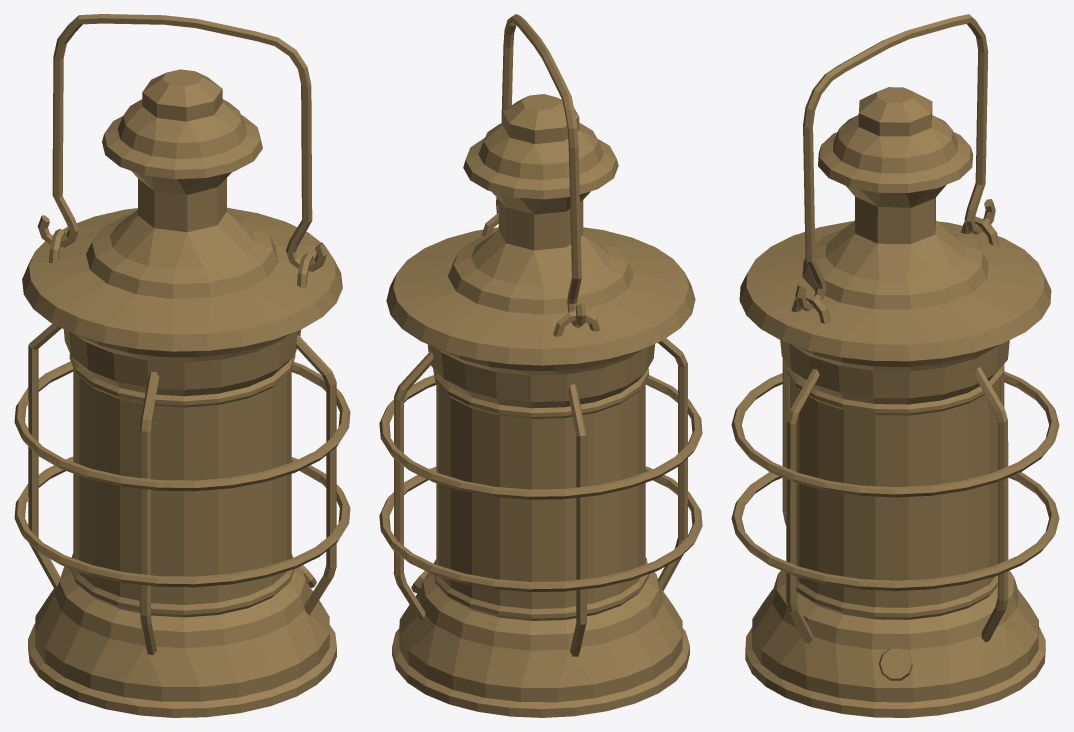
File: lantern.fbx
3 renders of one model, left to right at view 1: azimuth 30°, elevation 25°; view 2: azimuth 150°, elevation 25°; view 3: azimuth 270°, elevation 25°, orthographic. The views are drawn at different scales.
Visible parts, largest first — view 1: Lantern; view 2: Lantern; view 3: Lantern.
Boxes of the visible parts, x1,y1,x2,y2 form: Lantern: (14, 14, 350, 717); Lantern: (379, 14, 702, 717); Lantern: (731, 14, 1059, 717).
Size of the model in its own units: 2.54 by 5.32 by 2.54.
